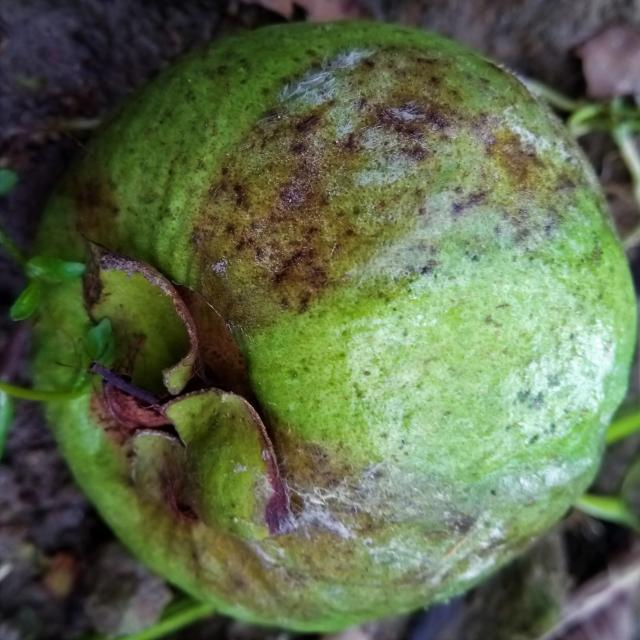Phytopthora: (28, 22, 636, 631)
